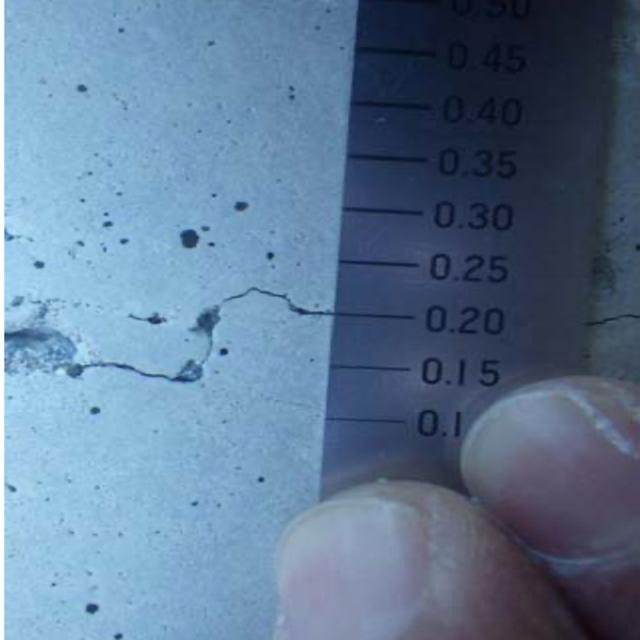crack: (17, 251, 332, 426), (594, 297, 640, 352)
